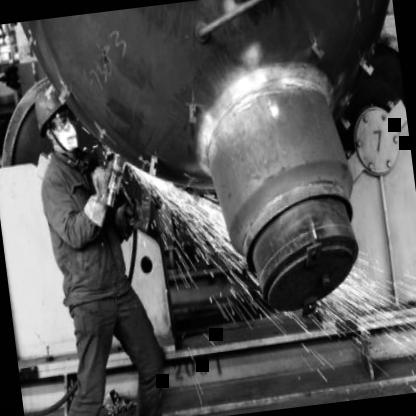helmet: (24, 72, 82, 160)
